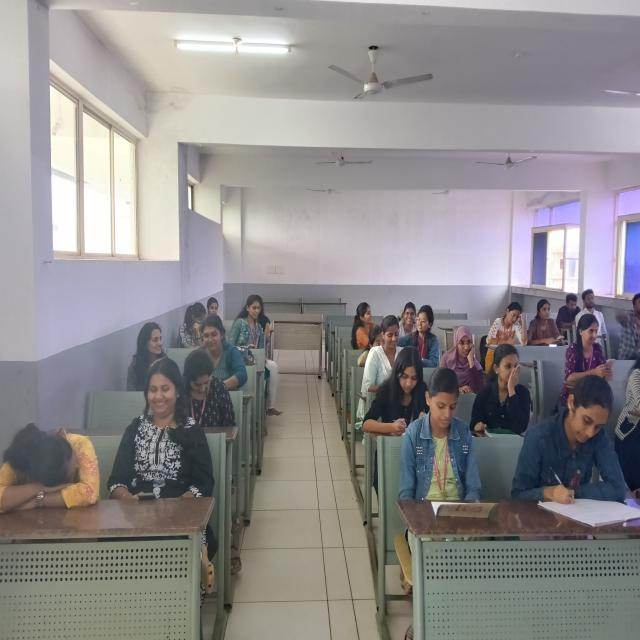Sleeping: (0, 388, 109, 558)
Using Phone: (562, 308, 622, 386), (525, 296, 568, 345)
Writing: (491, 373, 640, 528), (360, 327, 440, 447)
